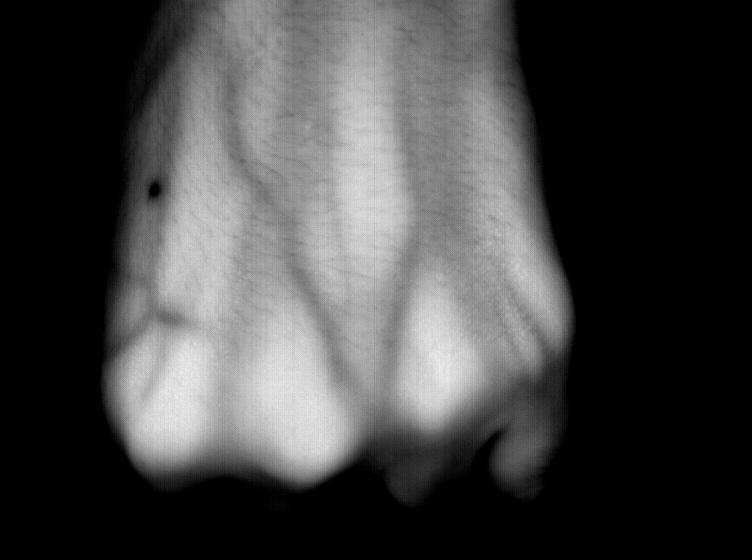Vein: (215, 58, 347, 385), (381, 55, 429, 371)
